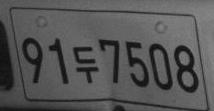0: (150, 42, 174, 91)
1: (46, 38, 70, 84)
5: (125, 40, 150, 88)
7: (97, 38, 120, 82)
8: (175, 44, 199, 93)
9: (21, 36, 43, 83)
두: (73, 46, 99, 84)
